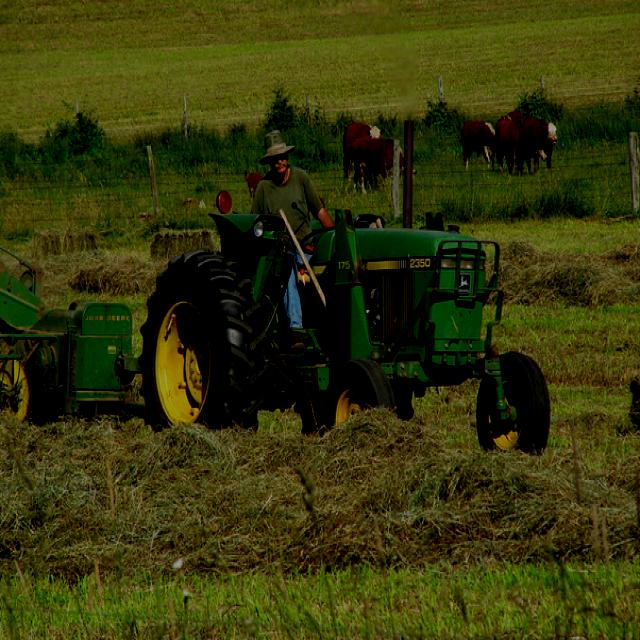Vehicle: (1, 117, 550, 454)
